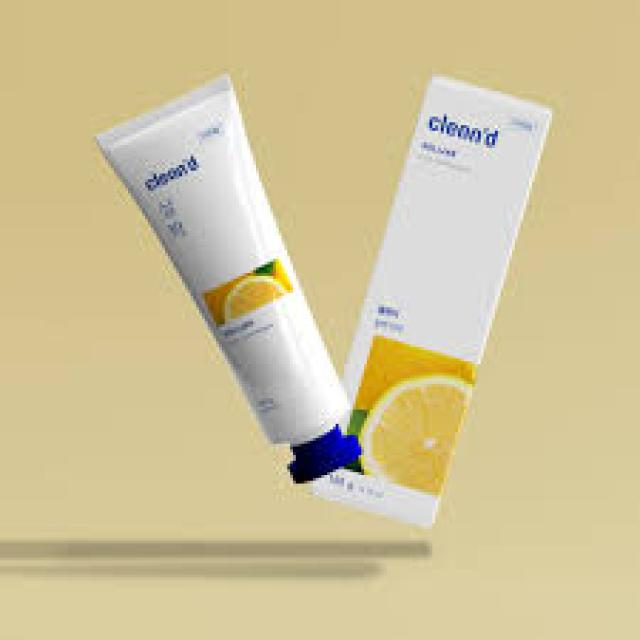toothpaste: (84, 62, 386, 481)
